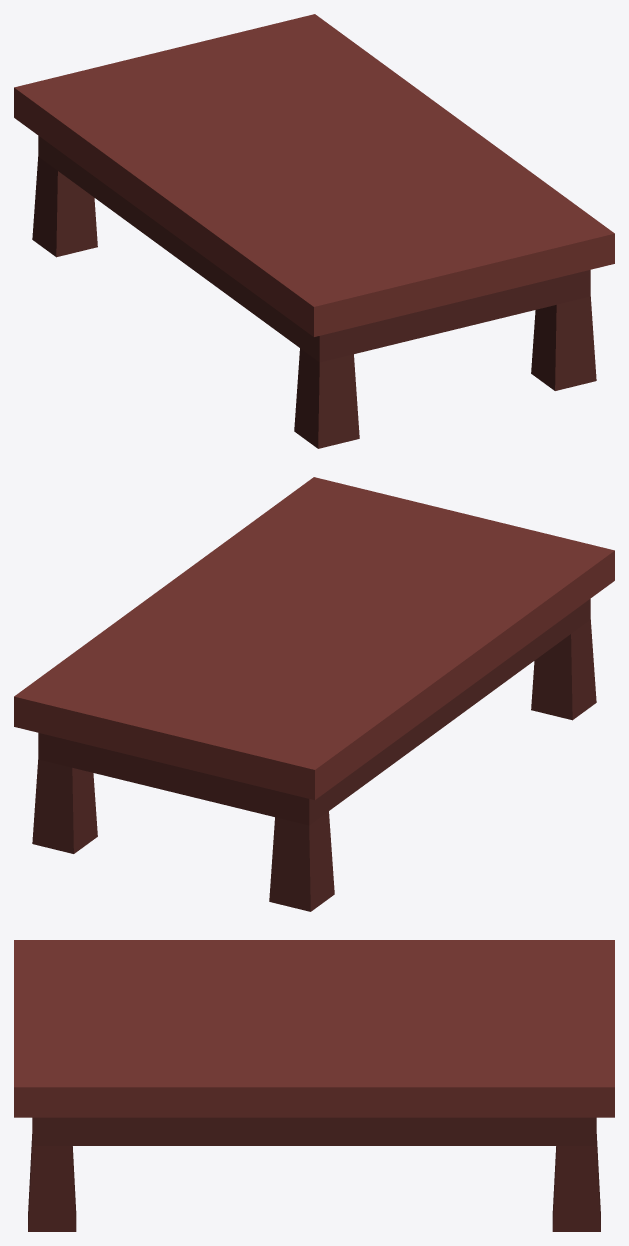
Rendered from CoffeeTable.glb.
3 renders of one model, top to bottom at view 1: azimuth 30°, elevation 25°; view 2: azimuth 150°, elevation 25°; view 3: azimuth 270°, elevation 25°, orthographic.
Visible parts, largest first — view 1: Coffee Table; view 2: Coffee Table; view 3: Coffee Table.
Boxes of the visible parts, bbox=[...] form: Coffee Table: bbox=[14, 14, 614, 448]; Coffee Table: bbox=[14, 477, 614, 911]; Coffee Table: bbox=[14, 940, 614, 1231].
Size of the model in its own units: 0.5888 by 0.2801 by 1.02.
